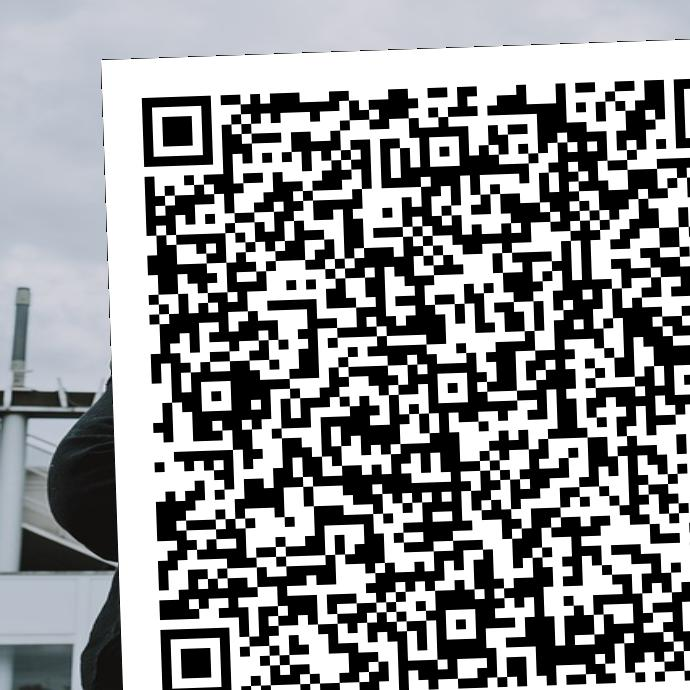qr_code: (101, 70, 689, 658)
